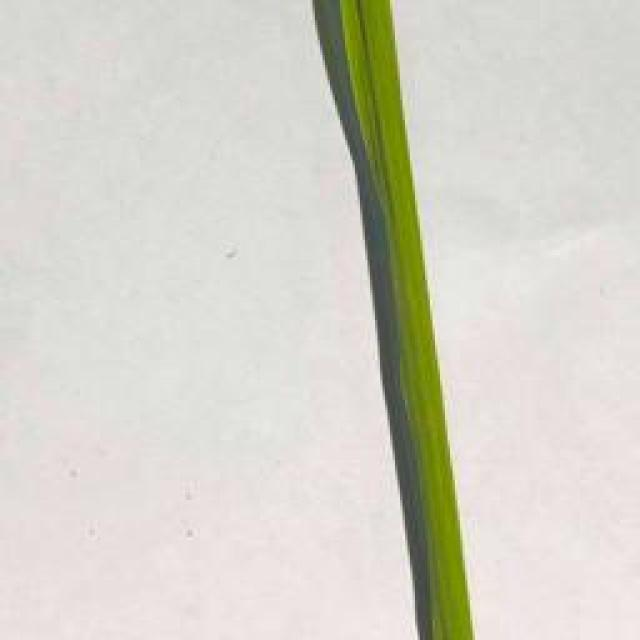Healthy-Plant: (291, 0, 478, 640)
